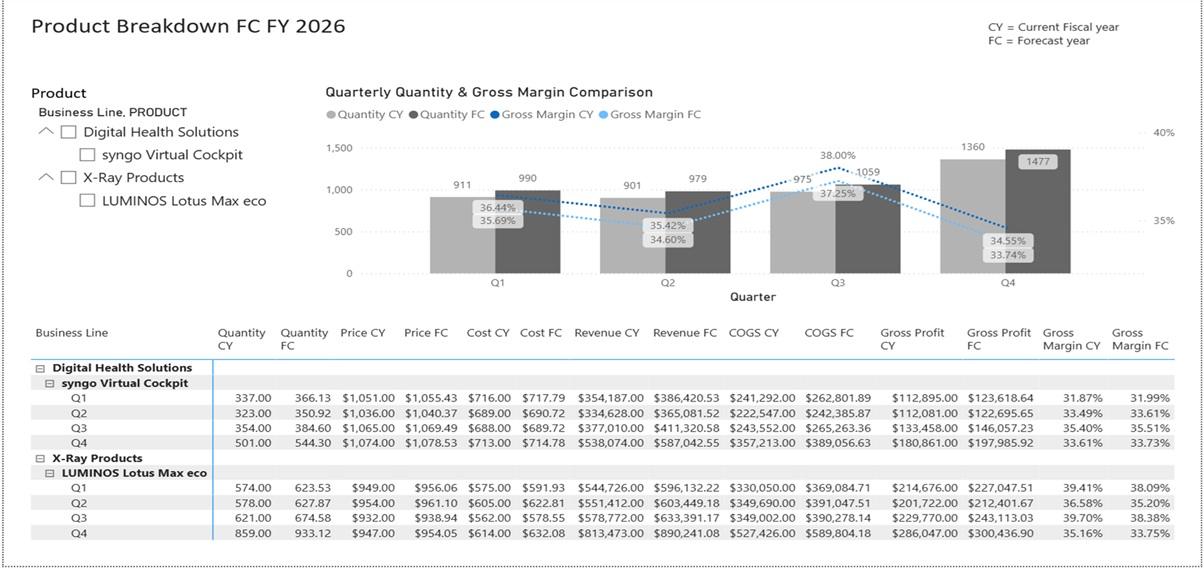

What the dashboard file says about the page in this screenshot:
{"tool":"powerbi","page":{"name":"P&L Forecast","canvas":[1280,720],"ordinal":0},"visuals":[{"type":"pivotTable","fields":{"Rows":["V_SALESFORECAST_PER_PRODUCT_Q_ALL_STD.Business Line","V_SALESFORECAST_PER_PRODUCT_Q_ALL_STD.PRODUCT","V_SALESFORECAST_PER_PRODUCT_Q_ALL_STD.SEASON"],"Values":["Sum(V_SALESFORECAST_PER_PRODUCT_Q_ALL_STD.CY_QUANTITY)","Sum(V_SALESFORECAST_PER_PRODUCT_Q_ALL_STD.FC_QUANTITY)","Sum(V_SALESFORECAST_PER_PRODUCT_Q_ALL_STD.CY_PRICE)","Sum(V_SALESFORECAST_PER_PRODUCT_Q_ALL_STD.FC_PRICE)","Sum(V_SALESFORECAST_PER_PRODUCT_Q_ALL_STD.CY_COST)","Sum(V_SALESFORECAST_PER_PRODUCT_Q_ALL_STD.FC_COST)","Sum(V_SALESFORECAST_PER_PRODUCT_Q_ALL_STD.CY_REVENUE)","Sum(V_SALESFORECAST_PER_PRODUCT_Q_ALL_STD.FC_REVENUE)","Sum(V_SALESFORECAST_PER_PRODUCT_Q_ALL_STD.CY_COGS)","Sum(V_SALESFORECAST_PER_PRODUCT_Q_ALL_STD.FC_COGS)","Sum(V_SALESFORECAST_PER_PRODUCT_Q_ALL_STD.CY_GP)","Sum(V_SALESFORECAST_PER_PRODUCT_Q_ALL_STD.FC_GP)"]},"box":[24.1,409,1232.9,299.7],"z":0},{"type":"textbox","box":[1047.5,23.1,209.5,59.1],"z":1000},{"type":"lineClusteredColumnComboChart","title":"Quarterly Quantity & Gross Margin Comparison","fields":{"Category":["V_SALESFORECAST_PER_PRODUCT_Q_ALL_STD.SEASON"],"Y":["Sum(V_SALESFORECAST_PER_PRODUCT_Q_ALL_STD.CY_QUANTITY)","Sum(V_SALESFORECAST_PER_PRODUCT_Q_ALL_STD.FC_QUANTITY)"],"Y2":["V_SALESFORECAST_PER_PRODUCT_Q_ALL_STD.GM CY (weighted)","V_SALESFORECAST_PER_PRODUCT_Q_ALL_STD.GM FC"]},"box":[338.8,109.3,918.2,283.7],"z":2000},{"type":"slicer","title":"Product","fields":{"Values":["V_SALESFORECAST_PER_PRODUCT_Q_ALL_STD.PRODUCT_CATEGORY","V_SALESFORECAST_PER_PRODUCT_Q_ALL_STD.PRODUCT"]},"box":[24.1,109.3,288.7,283.7],"z":3000},{"type":"textbox","box":[24.1,14,375.9,68.2],"z":4000}]}

Visuals, with their boxes on the page's 1280x720 design canvas (x1, y1, x2, y2). These are canvas units, not pixel positions in the 1203x569 screenshot, which may show the page scaled, cropped or inside an application window:
pivotTable - V_SALESFORECAST_PER_PRODUCT_Q_ALL_STD.Business Line x V_SALESFORECAST_PER_PRODUCT_Q_ALL_STD.PRODUCT: x1=24, y1=409, x2=1257, y2=709
textbox: x1=1048, y1=23, x2=1257, y2=82
"Quarterly Quantity & Gross Margin Comparison" lineClusteredColumnComboChart: x1=339, y1=109, x2=1257, y2=393
"Product" slicer: x1=24, y1=109, x2=313, y2=393
textbox: x1=24, y1=14, x2=400, y2=82
